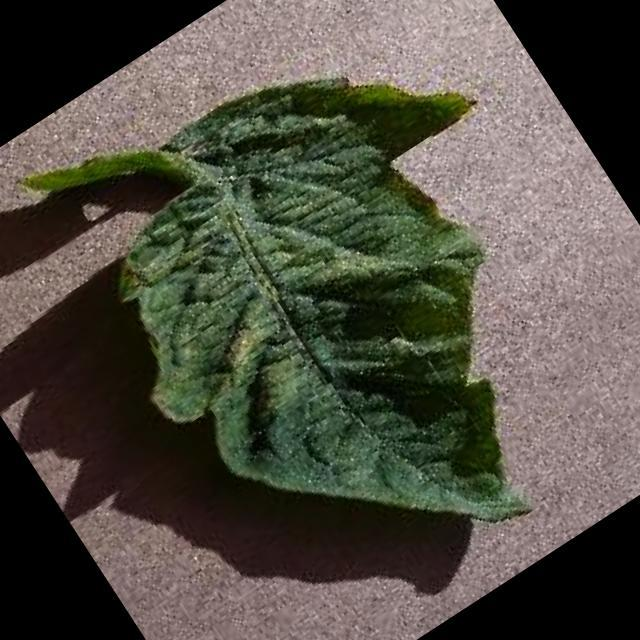Tomato spider mites leaf: (33, 0, 640, 640)
